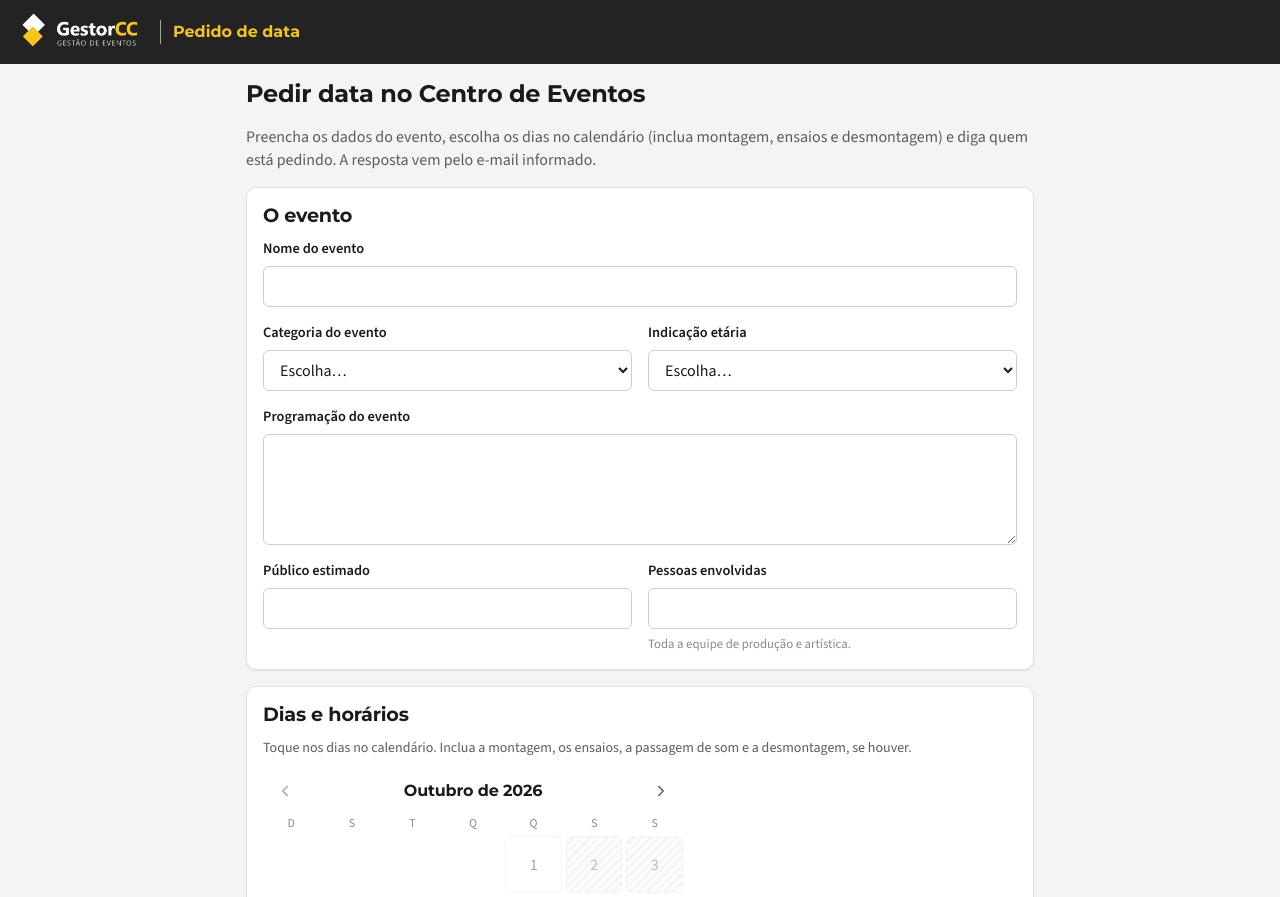
pedido de data pela página pública › avisa quando o público estimado passa da lotação do teatro
This screenshot has width=1280, height=897.
In the number field labelled "Público estimado": {"x": 448, "y": 608} [263, 588, 632, 629], type "1500"
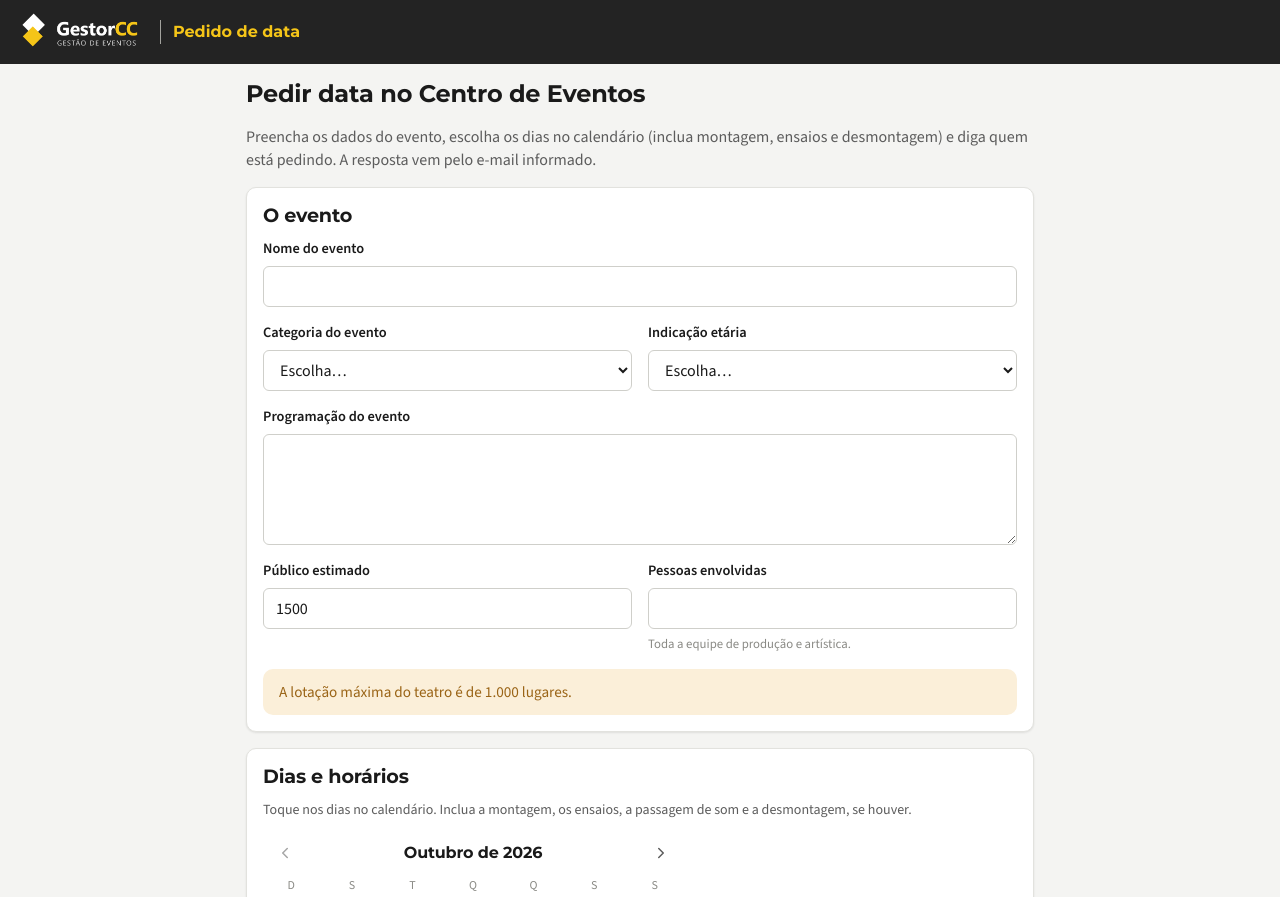
Expected: the text "A lotação máxima do teatro é de 1.000 lugares." is shown, [279, 681, 572, 703]
Replace the text in the number field labelled "Público estimado" with "900": {"x": 448, "y": 608} [263, 588, 632, 629]
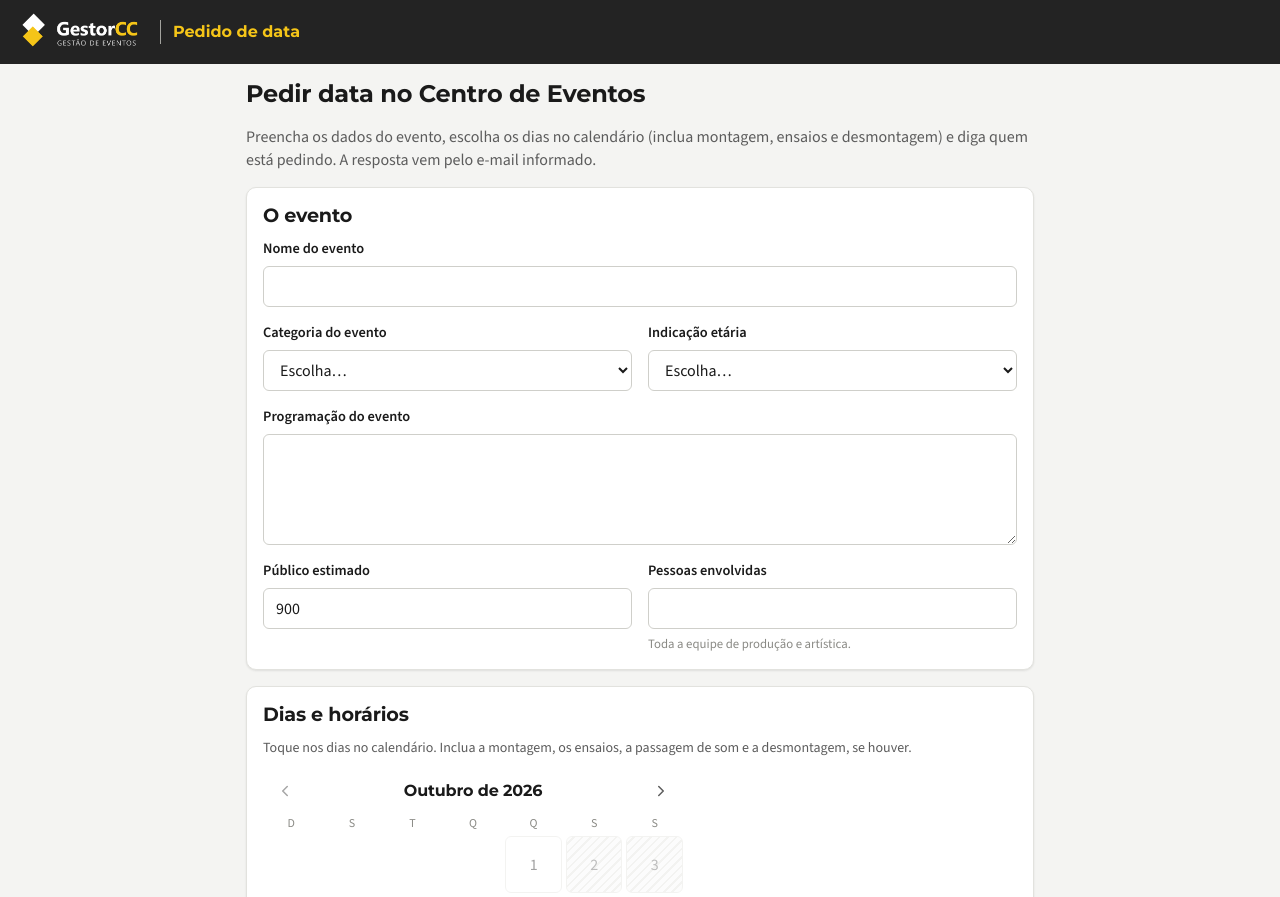
Expected: the text "lotação máxima" is gone
